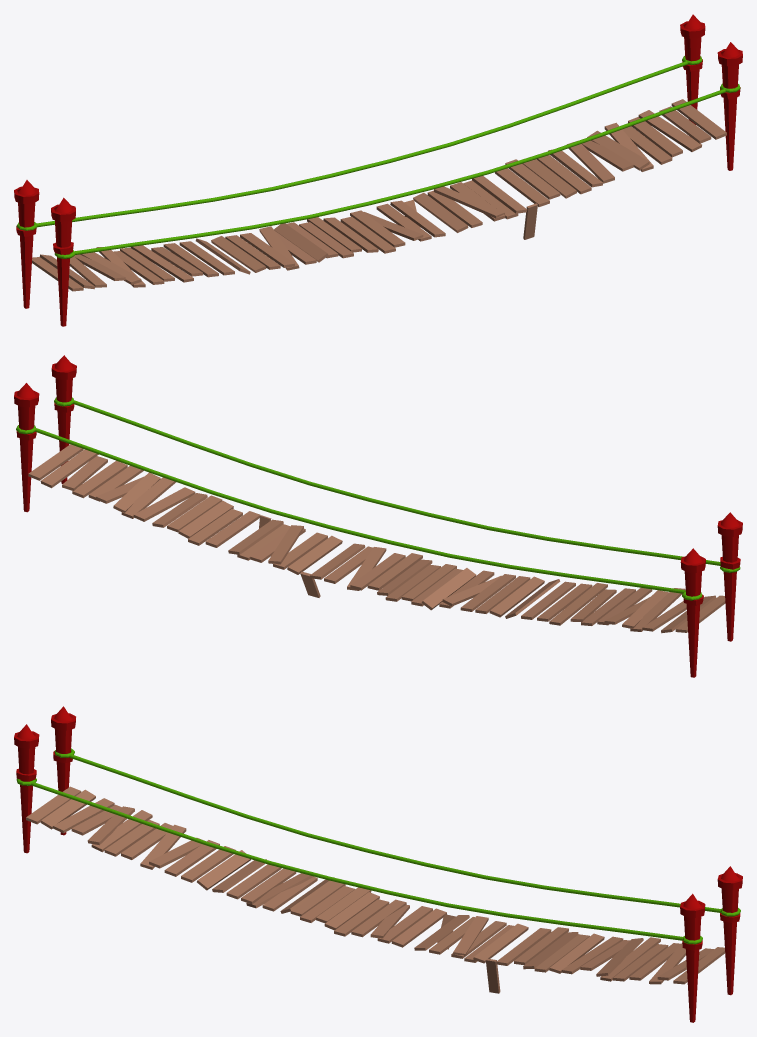
Rendered from Bridge.fbx.
3 renders of one model, top to bottom at view 1: azimuth 30°, elevation 25°; view 2: azimuth 150°, elevation 25°; view 3: azimuth 330°, elevation 25°, orthographic.
Visible parts, largest first — view 1: polySurface54, polySurface60, polySurface64, polySurface63, polySurface62, polySurface1, polySurface61; view 2: polySurface54, polySurface64, polySurface60, polySurface63, polySurface62, polySurface61, polySurface1; view 3: polySurface54, polySurface60, polySurface64, polySurface61, polySurface1, polySurface63, polySurface62.
Boxes of the visible parts, left/top/right/bottom form: polySurface54: left=32, top=99, right=726, bottom=291; polySurface60: left=54, top=83, right=740, bottom=258; polySurface64: left=16, top=56, right=702, bottom=230; polySurface63: left=51, top=197, right=75, bottom=326; polySurface62: left=14, top=180, right=39, bottom=308; polySurface1: left=717, top=42, right=742, bottom=170; polySurface61: left=680, top=14, right=705, bottom=124; polySurface54: left=28, top=444, right=725, bottom=633; polySurface64: left=16, top=425, right=702, bottom=600; polySurface60: left=54, top=397, right=740, bottom=572; polySurface63: left=717, top=512, right=742, bottom=641; polySurface62: left=680, top=548, right=705, bottom=677; polySurface61: left=14, top=383, right=39, bottom=512; polySurface1: left=51, top=355, right=76, bottom=483; polySurface54: left=26, top=786, right=725, bottom=993; polySurface60: left=16, top=778, right=702, bottom=944; polySurface64: left=54, top=748, right=740, bottom=916; polySurface61: left=717, top=866, right=742, bottom=995; polySurface1: left=680, top=893, right=705, bottom=1022; polySurface63: left=14, top=724, right=39, bottom=853; polySurface62: left=51, top=706, right=75, bottom=835.
Bounding box in the file's own units: 39.8 × 8.59 × 5.2.
